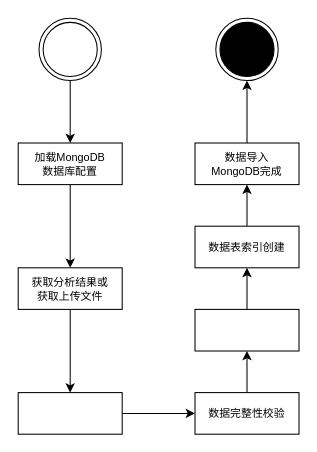
Image size: 317x452. Some labels were removed from this diagram. The centre of each missing label's shape, as x and y in pixels:
数据库分片操作: point (246, 329)
生成唯一标识: point (69, 413)
